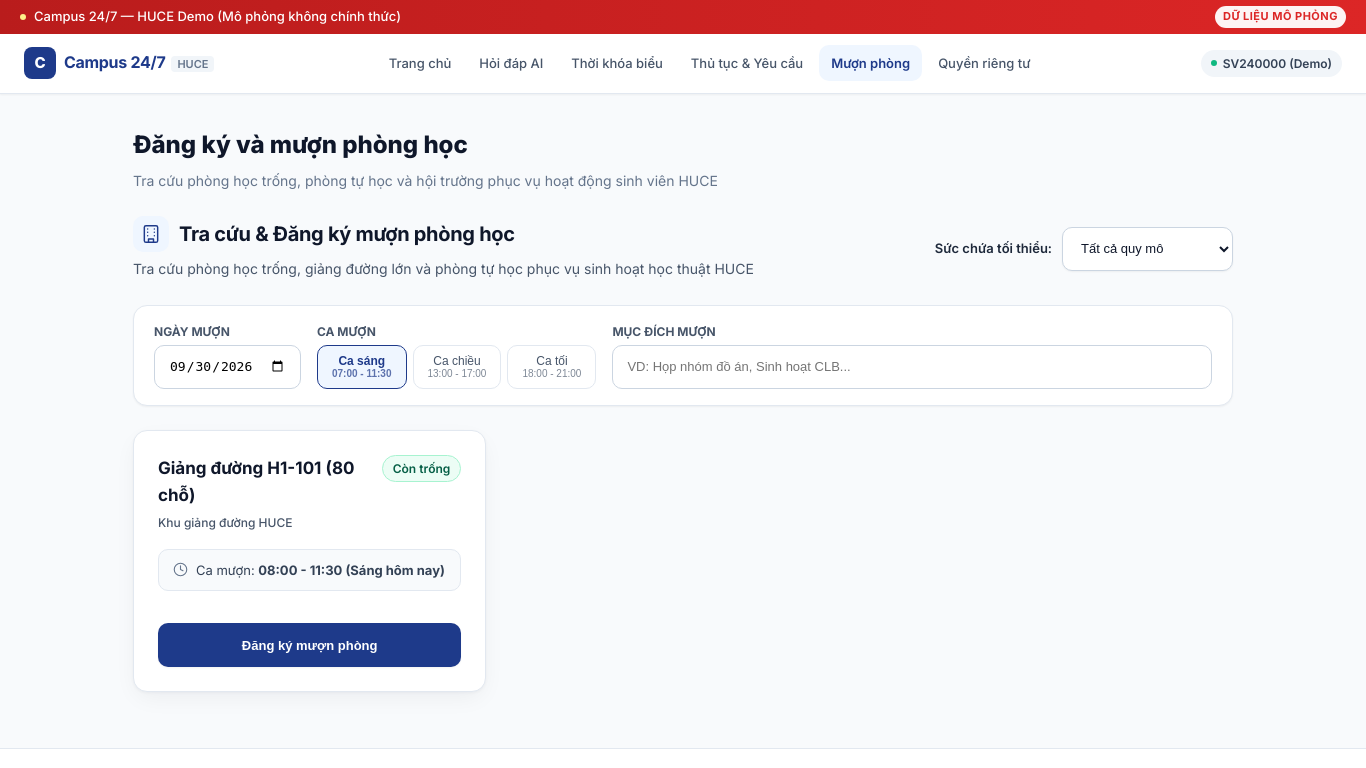
Test case: RoomsPage Component - Fail Honestly (TASK-WEB-ROOM-003) › authoritative booking success renders real booking confirmation
This screenshot has width=1366, height=768.
Click the button "Đăng ký mượn phòng" at (310, 645), box [158, 623, 461, 667]
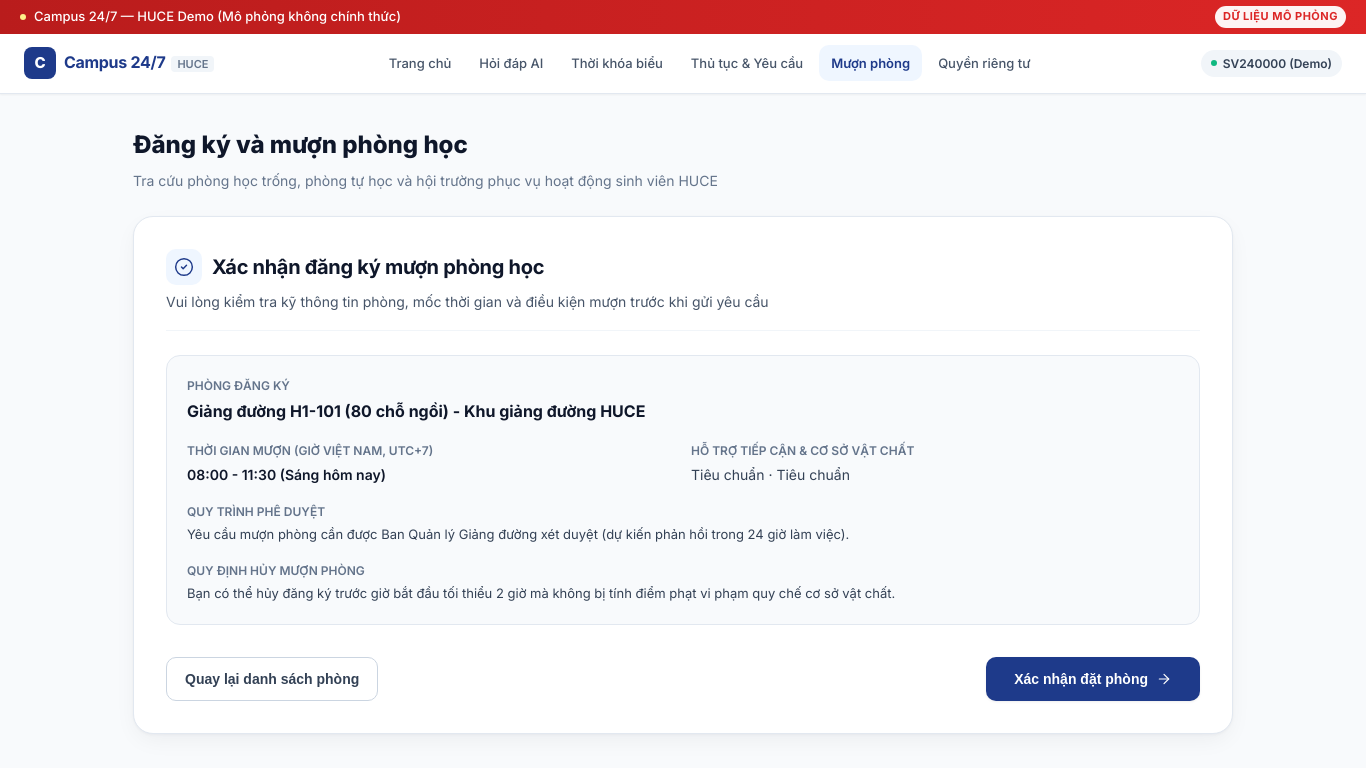
Click the button "Xác nhận đặt phòng" at (1093, 678), box [986, 656, 1200, 700]
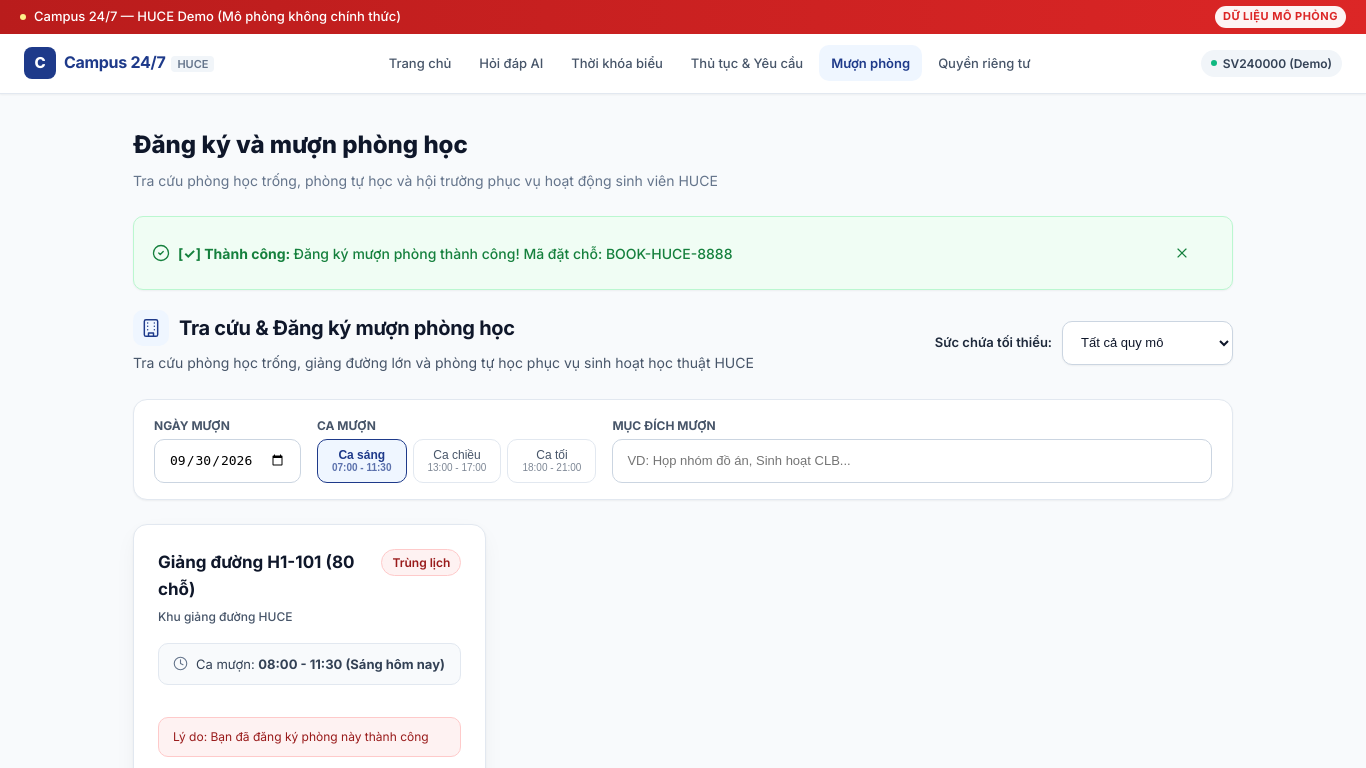
Result: the text "Mã đặt chỗ: BOOK-HUCE-8888" is shown at [294, 245, 732, 262]
